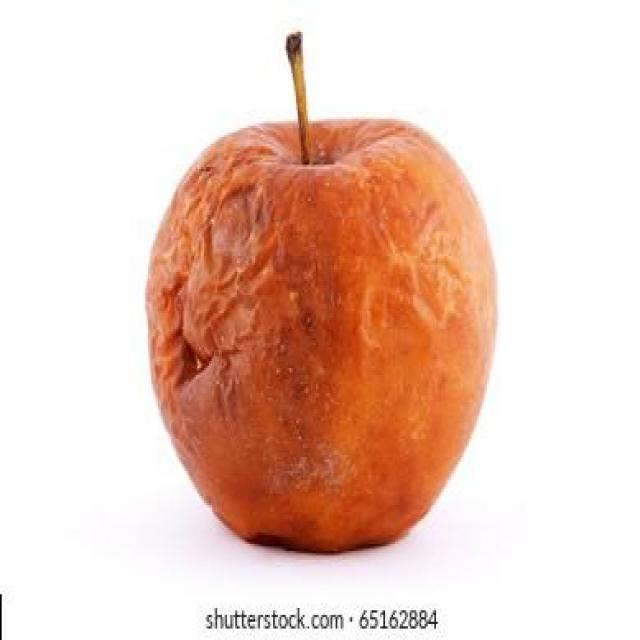Rotten: (140, 110, 497, 556)
